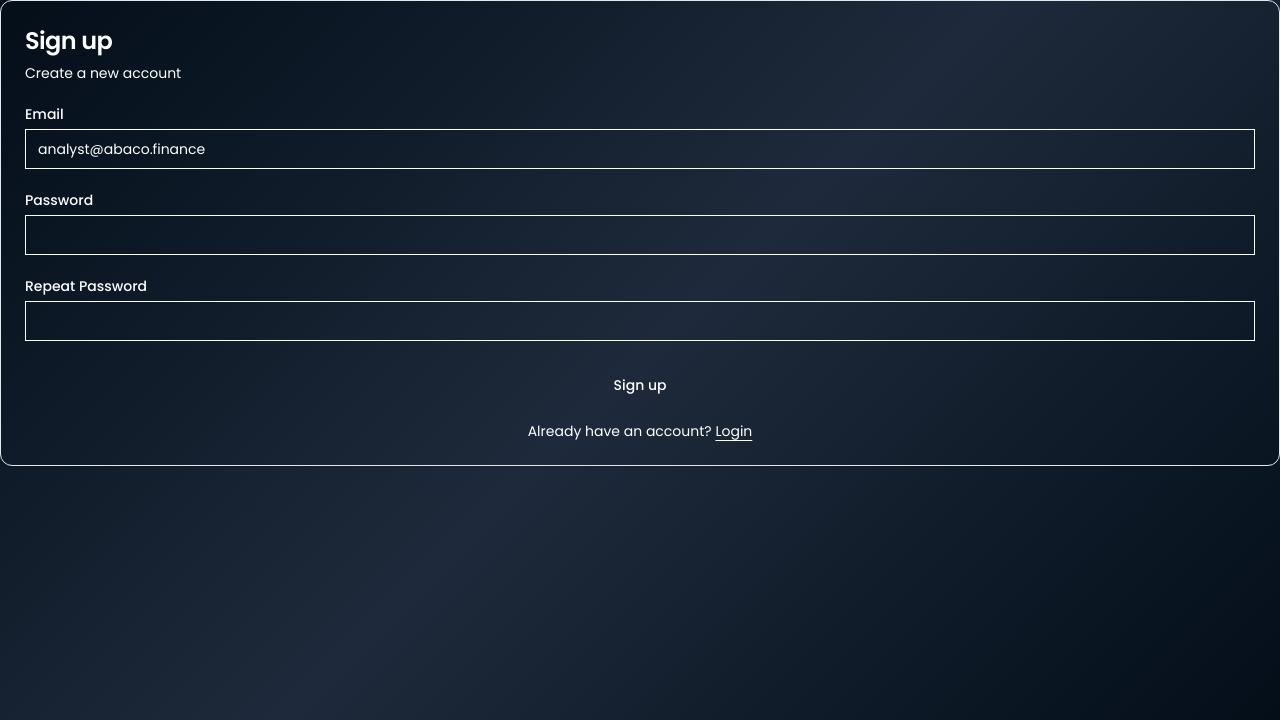
Test: SignUpForm Component › displays error when passwords do not match
Type "newuser@abaco.finance" into the field labelled "Email". click: (640, 149)
box: 25,129 -> 1255,169
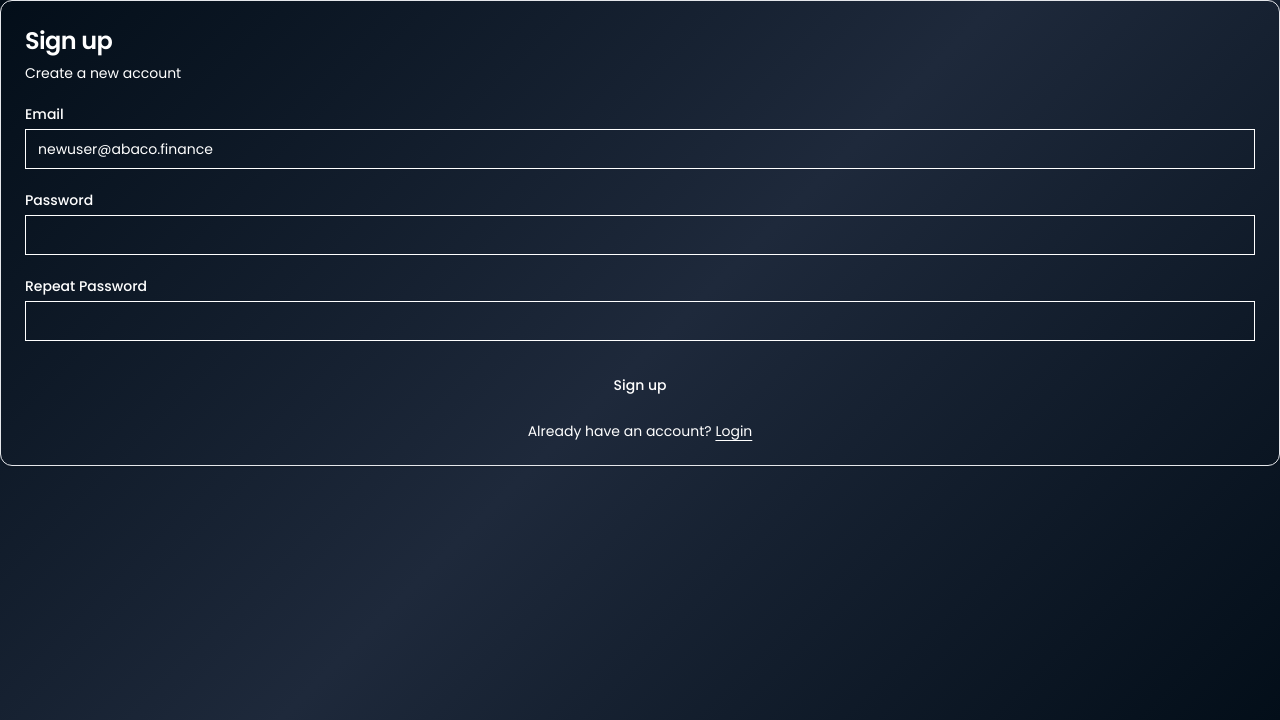
Type "SecurePassword123!" into the password field labelled "Password". click: (640, 235)
box: 25,215 -> 1255,255
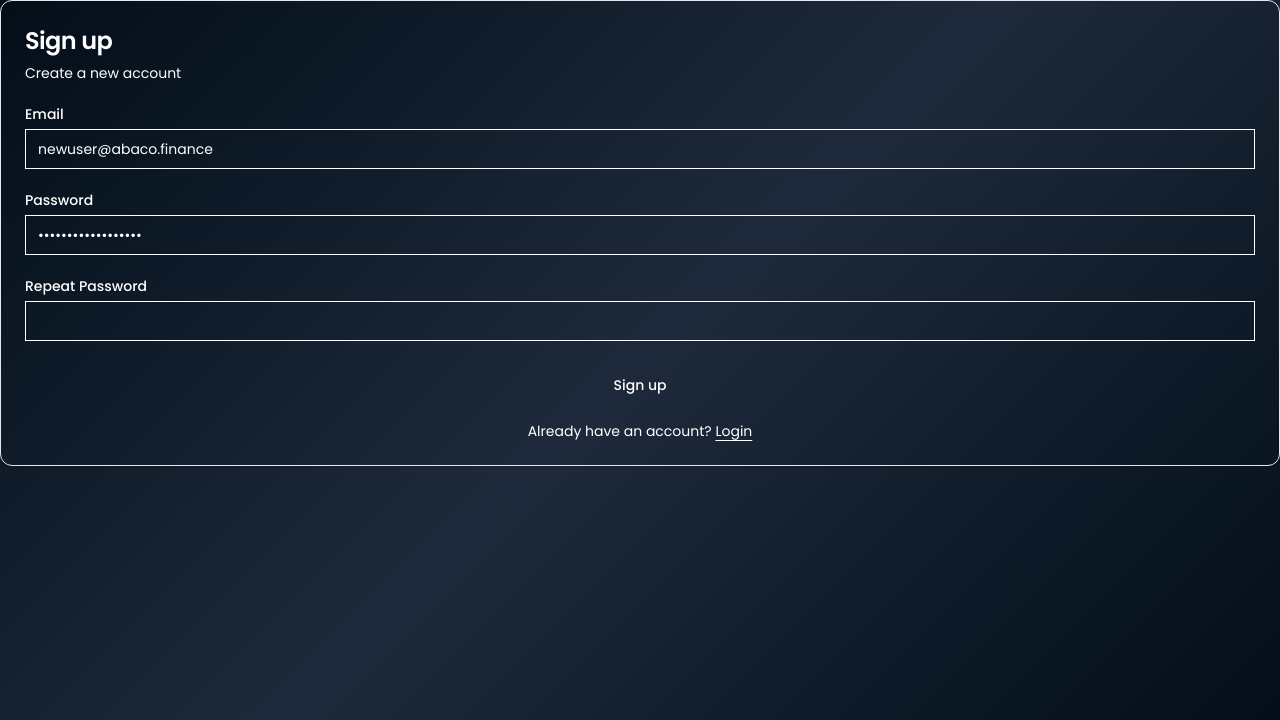
Type "DifferentPassword123!" into the password field labelled "Repeat Password". click: (640, 321)
box: 25,301 -> 1255,341
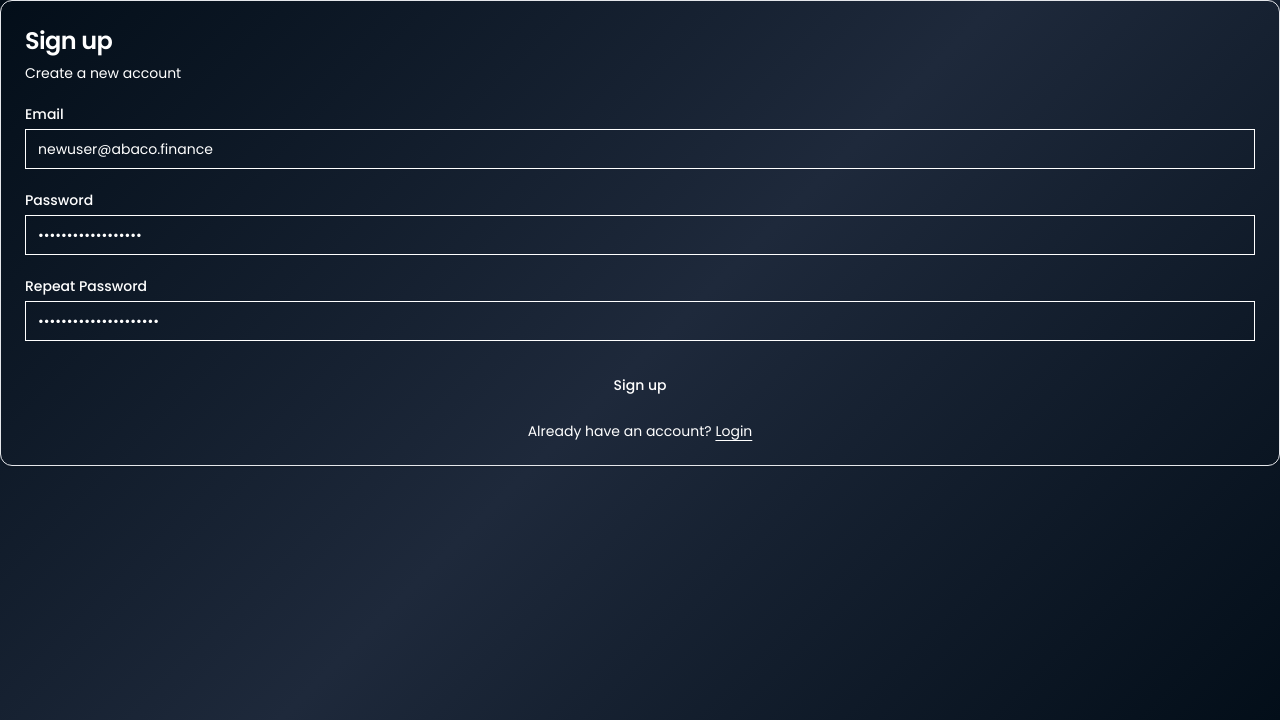
Click the button "Sign up". click: (640, 385)
box: 25,365 -> 1255,405
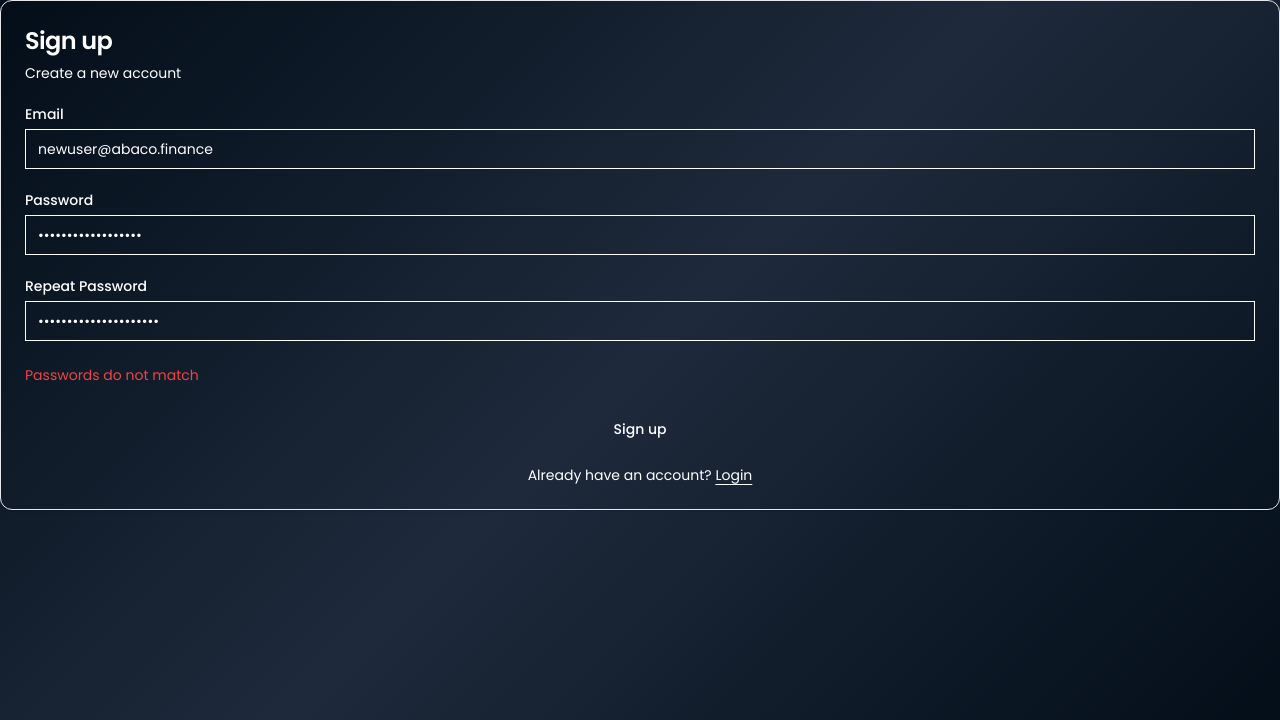
Expected: the text "Passwords do not match" is shown, 25,365 -> 199,385
